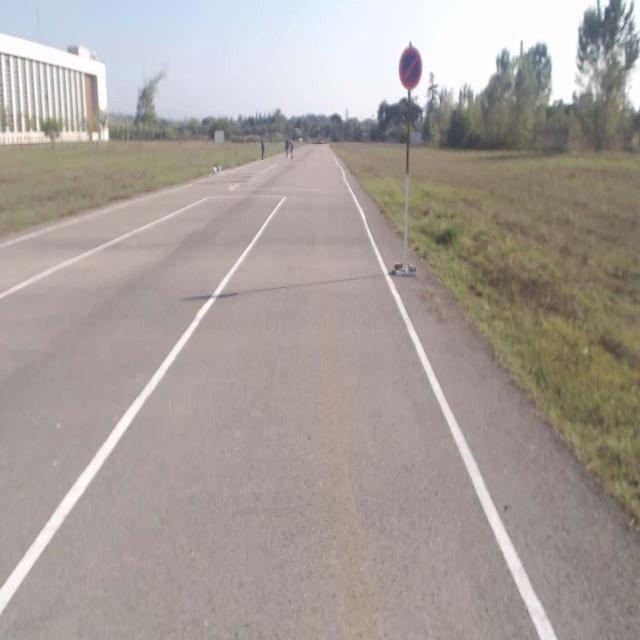parkyasak: (399, 45, 421, 89)
